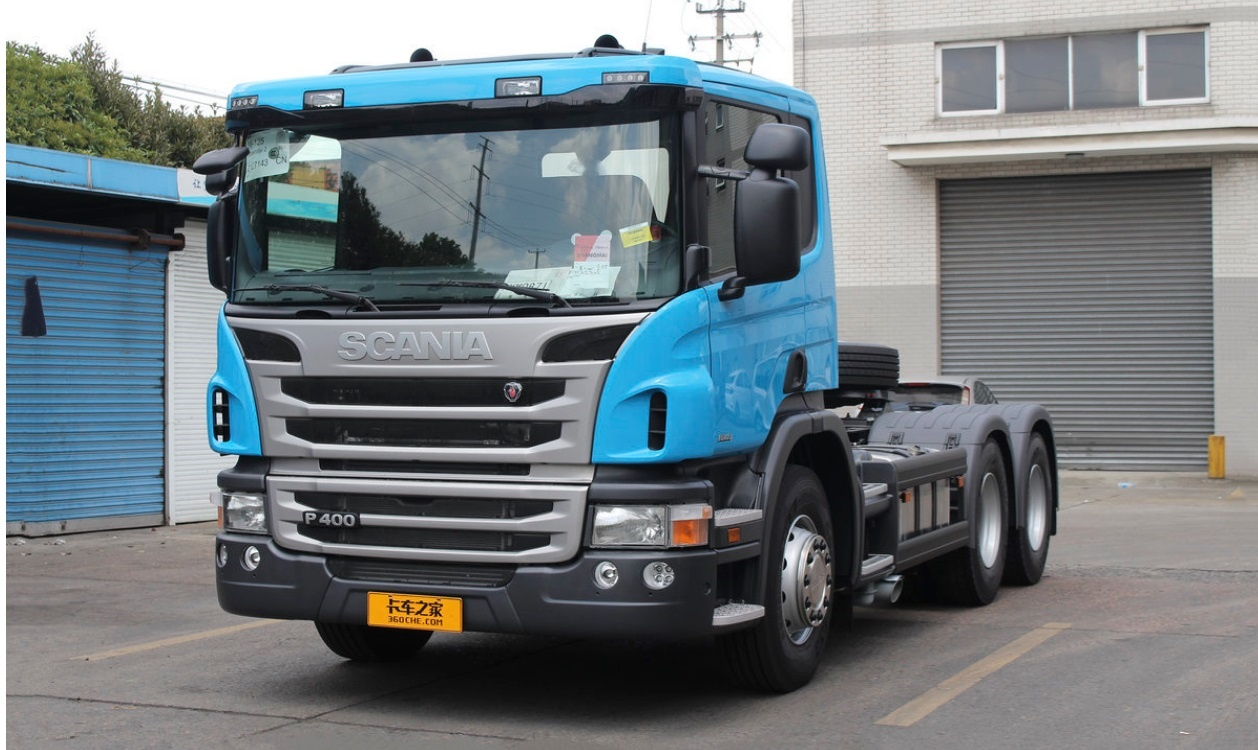heavy truck: (172, 46, 1073, 689)
